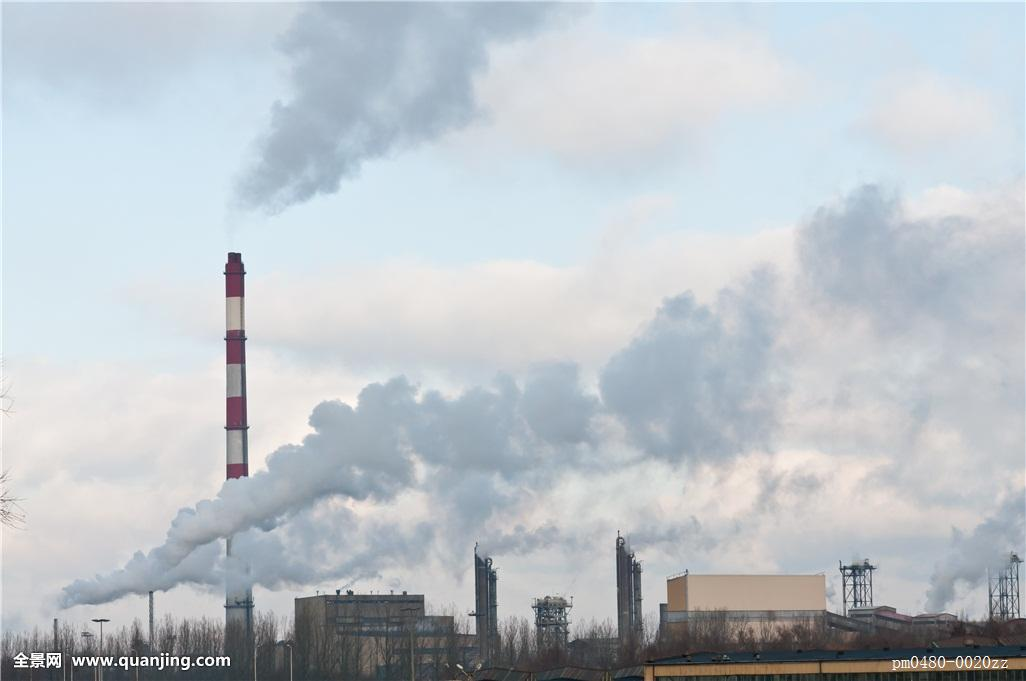dust: (203, 33, 448, 284), (49, 467, 253, 628), (592, 501, 750, 575), (451, 510, 593, 582)
